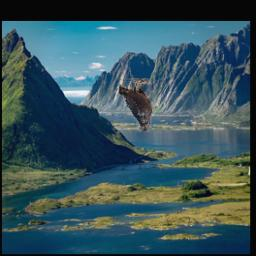Crow: (119, 79, 152, 133)
